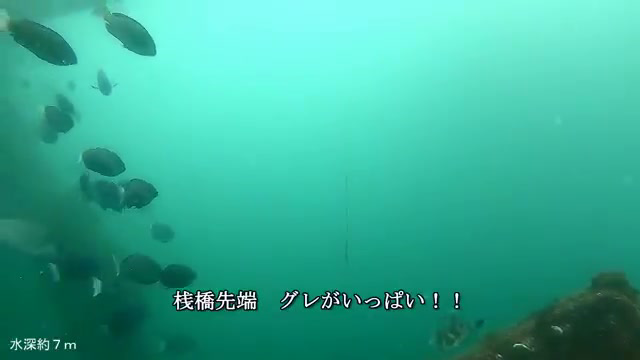smallfish: (1, 1, 84, 74), (85, 1, 167, 71), (104, 247, 168, 293), (71, 140, 129, 179), (117, 173, 163, 212), (88, 65, 126, 107)
